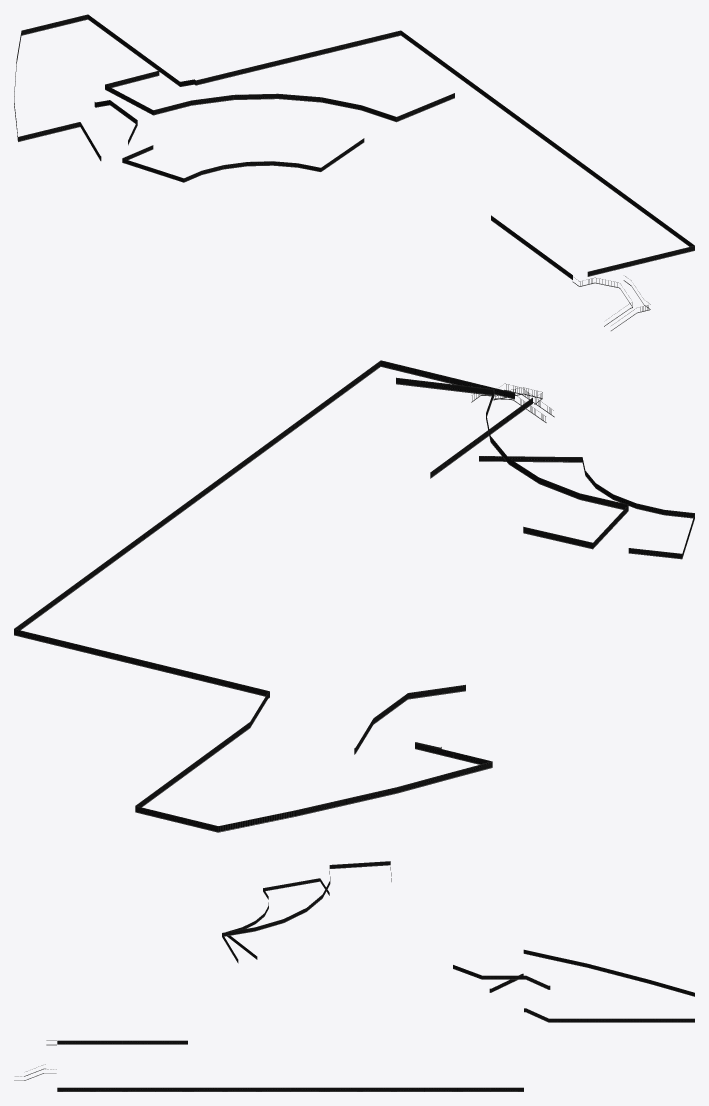
The model's file is vrockglass.obj.
3 renders of one model, top to bottom at view 1: azimuth 30°, elevation 25°; view 2: azimuth 150°, elevation 25°; view 3: azimuth 270°, elevation 25°, orthographic. The views are drawn at different scales.
Parts seen in each view (by area): view 1: vrockglass; view 2: vrockglass; view 3: vrockglass.
Part boxes in pixels (x1=…): vrockglass: x1=14, y1=14, x2=694, y2=330; vrockglass: x1=14, y1=360, x2=694, y2=832; vrockglass: x1=14, y1=861, x2=694, y2=1091.
Bounding box in the file's own units: 90.69 × 29.54 × 166.
Materials: 2 (2 with a texture image).
